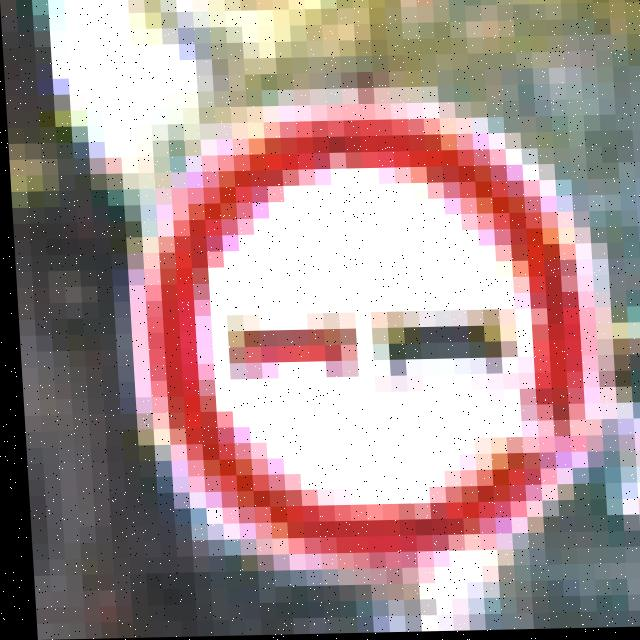no_overtaking: (144, 89, 577, 579)
